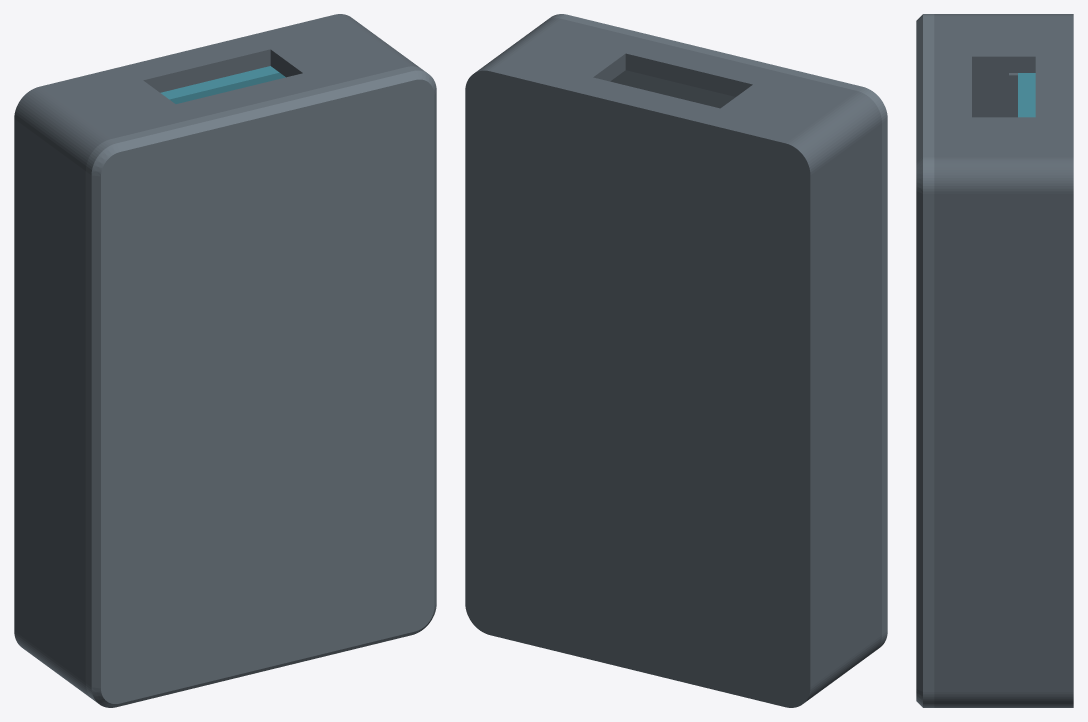
File: easyduino-esp32_assembly.glb
3 views of the same model, side by side, from view 1: azimuth 30°, elevation 25°; view 2: azimuth 150°, elevation 25°; view 3: azimuth 270°, elevation 25° (orthographic). The views are drawn at different scales.
Parts seen in each view (by area): view 1: lid, bottom, board_proxy; view 2: bottom, lid; view 3: bottom, lid, board_proxy.
Part boxes in pixels (x1,y1,x2,y2): lid: (85,66,436,707); bottom: (14,14,420,698); board_proxy: (160,66,285,103); bottom: (465,18,881,707); lid: (547,14,887,650); bottom: (934,14,1073,707); lid: (916,14,934,707); board_proxy: (1018,73,1035,117).
Bounding box in the file's own units: 34.8 × 54.32 × 14.1.
